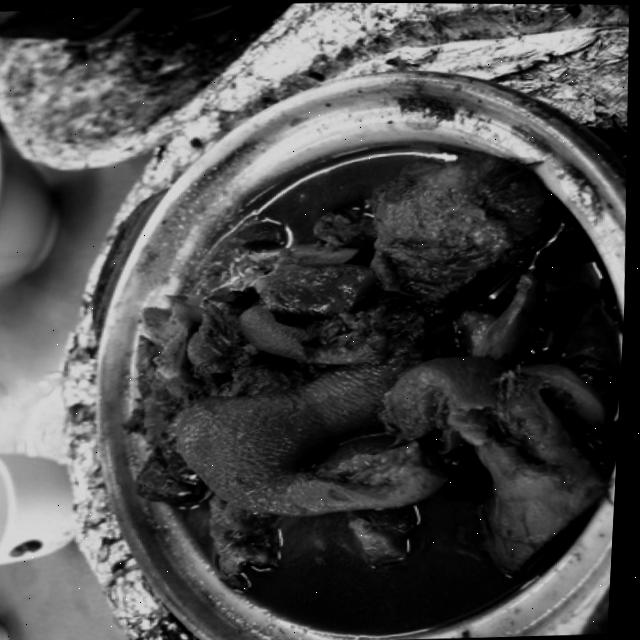汤锅炖物: (69, 108, 634, 640)
